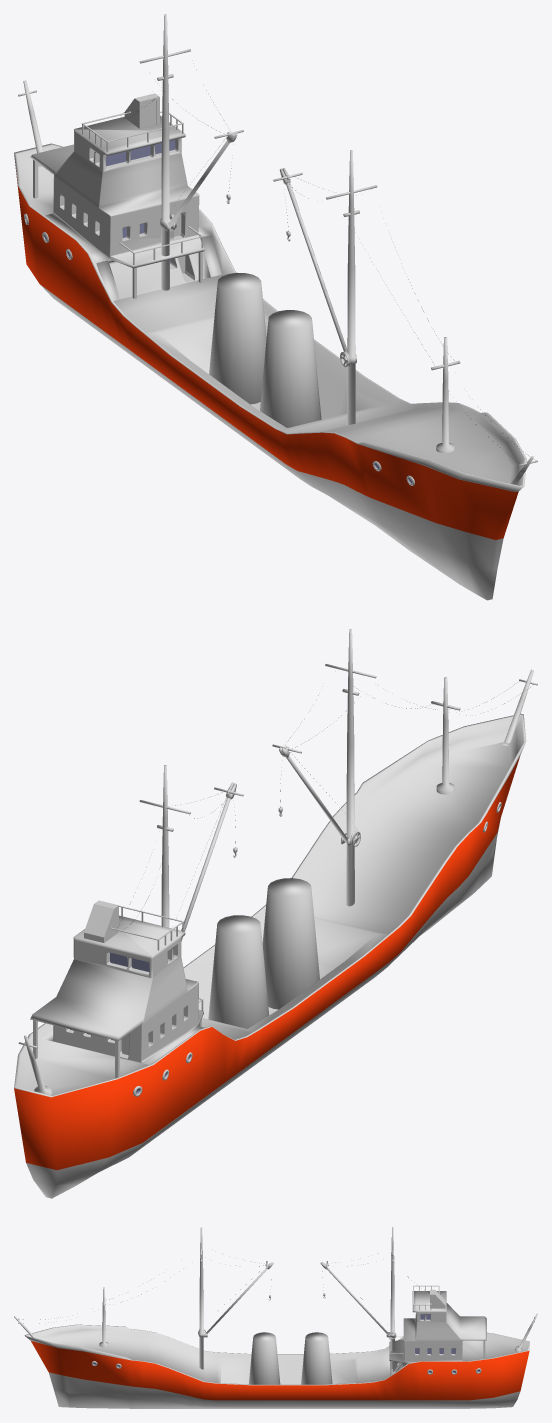
Rendered from D1_Ship1.glb.
3 renders of one model, top to bottom at view 1: azimuth 30°, elevation 25°; view 2: azimuth 150°, elevation 25°; view 3: azimuth 270°, elevation 25°, orthographic. The views are drawn at different scales.
Parts seen in each view (by area): view 1: Object_6, Object_2, Cylinder.001, Cylinder, Object_4; view 2: Object_6, Object_2, Cylinder, Cylinder.001; view 3: Object_6, Object_2, Cylinder.001, Cylinder.
Part boxes in pixels (x1,y1,x2,y2): Object_6: [14, 14, 537, 600]; Object_2: [15, 162, 518, 539]; Cylinder.001: [209, 272, 266, 404]; Cylinder: [260, 310, 321, 427]; Object_4: [26, 139, 412, 483]; Object_6: [14, 629, 537, 1198]; Object_2: [14, 756, 519, 1170]; Cylinder: [262, 878, 319, 1009]; Cylinder.001: [208, 915, 269, 1028]; Object_6: [14, 1227, 537, 1408]; Object_2: [31, 1341, 529, 1400]; Cylinder.001: [301, 1332, 332, 1384]; Cylinder: [249, 1332, 280, 1384].
Size of the model in its own units: 6.14 by 16.34 by 43.39.
